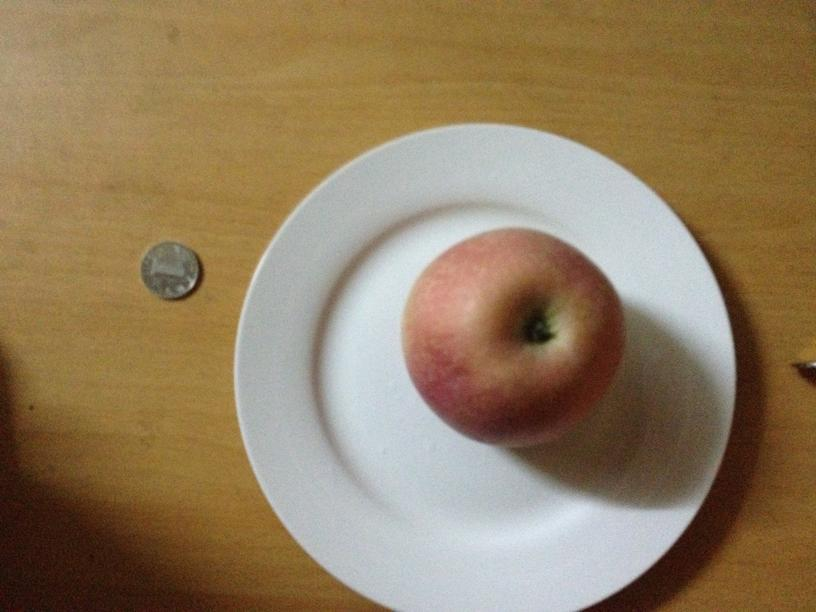apple: (397, 229, 624, 447)
coin: (141, 240, 201, 301)
